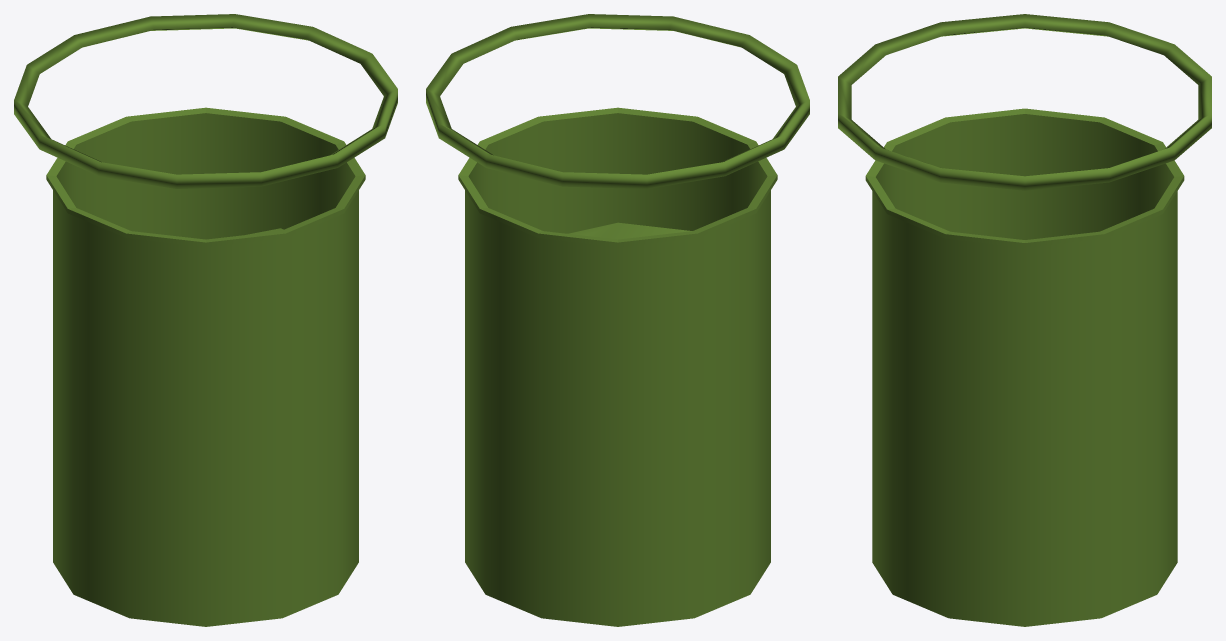
The model's file is mcp_trash_can_01_LOD_1.FBX.
The picture shows the model from 3 angles, left to right: view 1: azimuth 30°, elevation 25°; view 2: azimuth 150°, elevation 25°; view 3: azimuth 270°, elevation 25°; orthographic projection.
Parts seen in each view (by area): view 1: mcp_trash_can_01; view 2: mcp_trash_can_01; view 3: mcp_trash_can_01.
Part boxes in pixels (x1=…): mcp_trash_can_01: x1=14, y1=14, x2=397, y2=626; mcp_trash_can_01: x1=426, y1=14, x2=809, y2=626; mcp_trash_can_01: x1=838, y1=14, x2=1211, y2=626.
Bounding box in the file's own units: 62.17 × 83.46 × 60.52.
